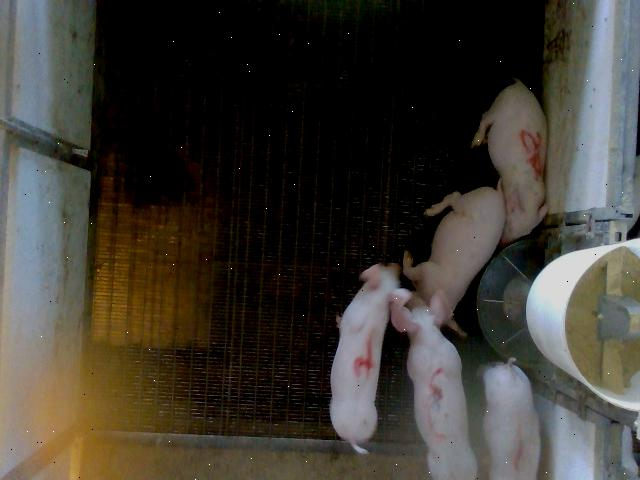pig-1: (484, 359, 539, 479)
pig-3: (391, 291, 478, 479)
pig-4: (330, 264, 411, 453)
pig-5: (471, 78, 548, 246)
